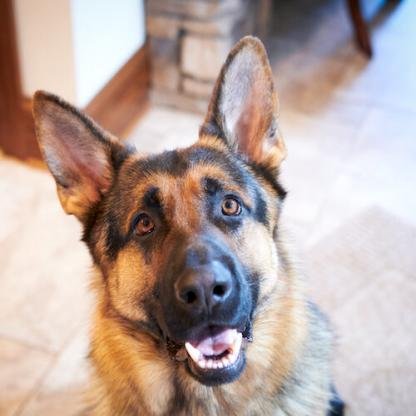german shepherd: (35, 37, 346, 416)
